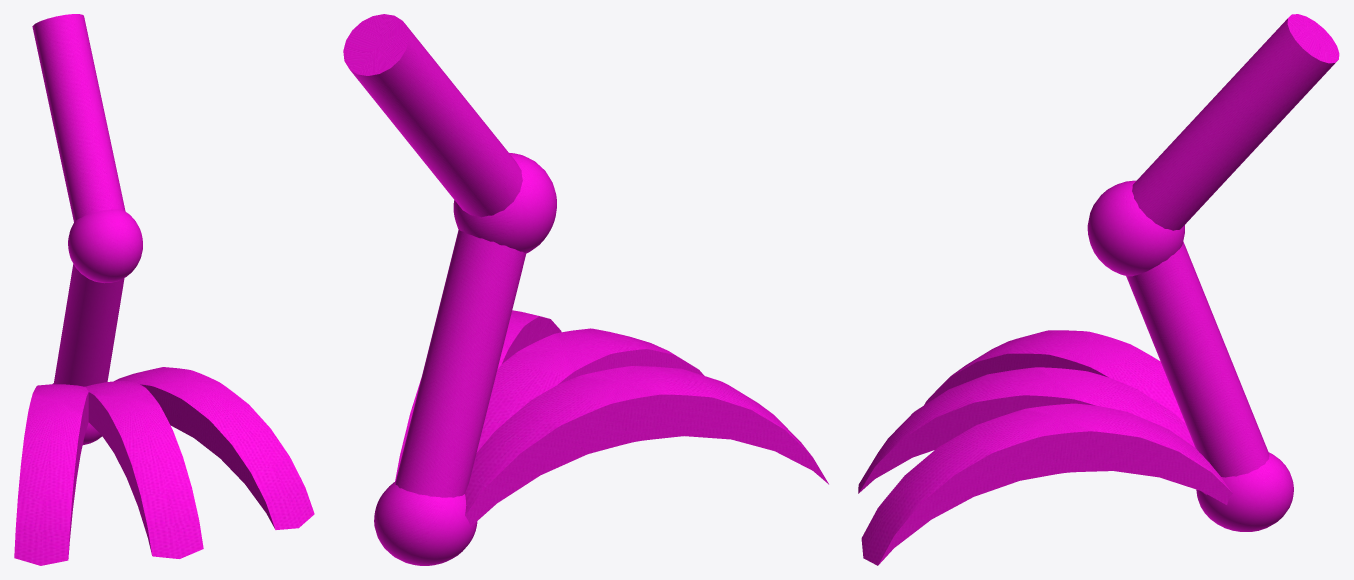
File: ave02-pata1-LT.obj
The picture shows the model from 3 angles, left to right: view 1: azimuth 30°, elevation 25°; view 2: azimuth 150°, elevation 25°; view 3: azimuth 270°, elevation 25°; orthographic projection. The views are drawn at different scales.
Parts seen in each view (by area): view 1: Cylinder004; view 2: Cylinder004; view 3: Cylinder004.
Part boxes in pixels (left/top/right/bottom): Cylinder004: left=14, top=14, right=314, bottom=565; Cylinder004: left=343, top=14, right=828, bottom=565; Cylinder004: left=858, top=14, right=1339, bottom=565.
Bounding box in the file's own units: 24.9 × 36.31 × 30.84.
